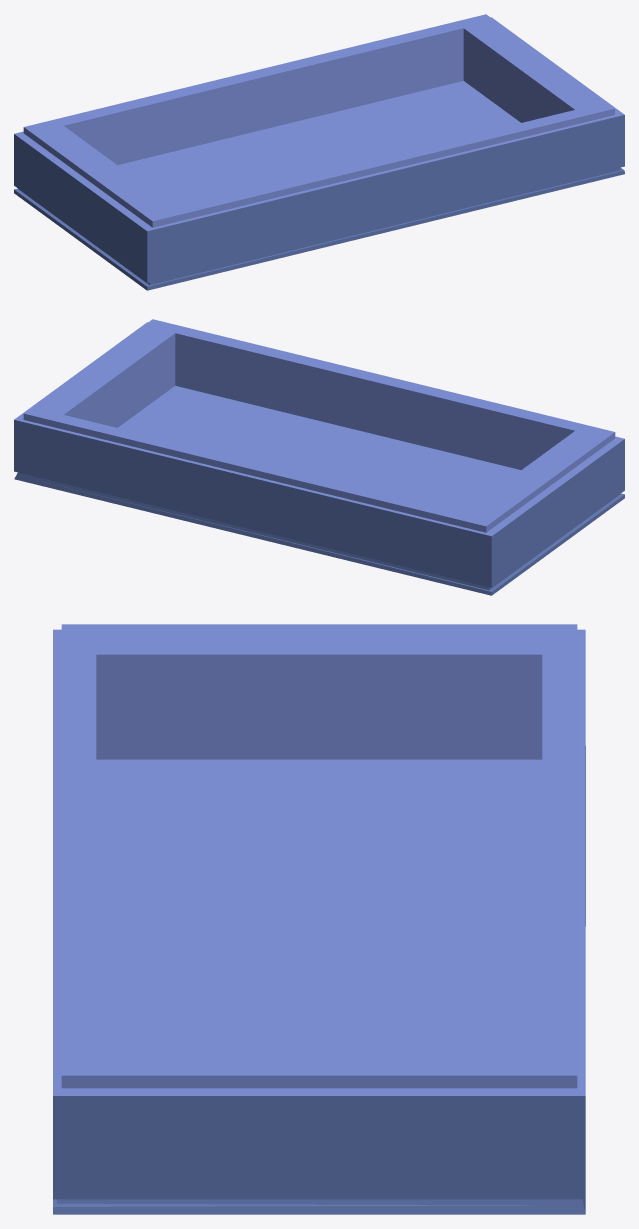
Rendered from Tomb 1.fbx.
The picture shows the model from 3 angles, top to bottom: view 1: azimuth 30°, elevation 25°; view 2: azimuth 150°, elevation 25°; view 3: azimuth 270°, elevation 25°; orthographic projection. The views are drawn at different scales.
Parts seen in each view (by area): view 1: Tomb 1; view 2: Tomb 1; view 3: Tomb 1.
Part boxes in pixels (box(x1,y1,x2,y2)): Tomb 1: box(14, 14, 624, 290); Tomb 1: box(14, 319, 624, 595); Tomb 1: box(53, 624, 585, 1214).
Bounding box in the file's own units: 414 × 54.64 × 200.
